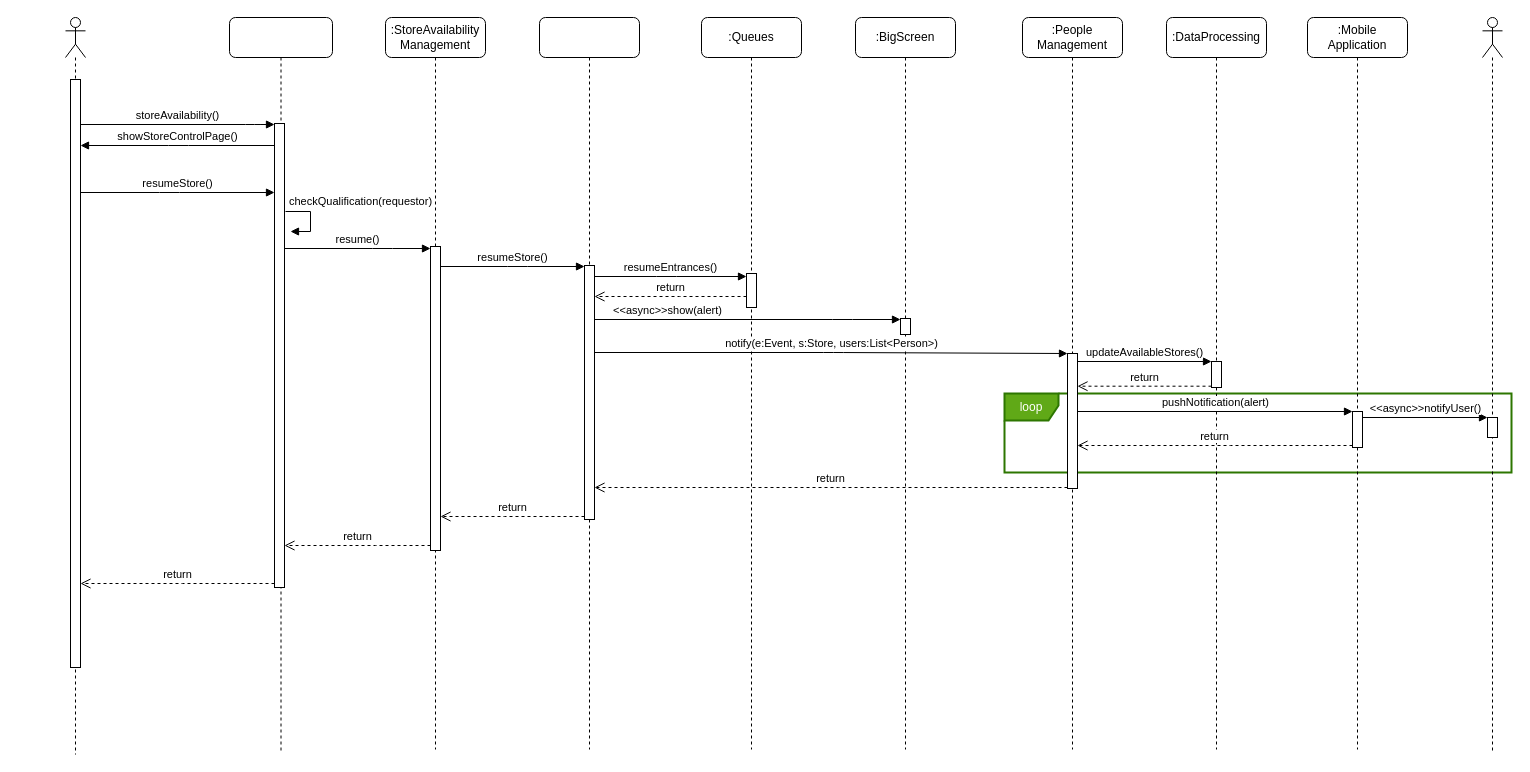
Some shapes in this 1530 by 772 pixel diagram are drawn without their labels. The box of each missing label's shape, as (x1, y1, x2, y2) in pixels:
:Notifications: (538, 16, 640, 750)
:WebApplication: (228, 16, 332, 752)
QualifiedStaffMember: (64, 16, 86, 754)
User: (1482, 16, 1502, 752)
